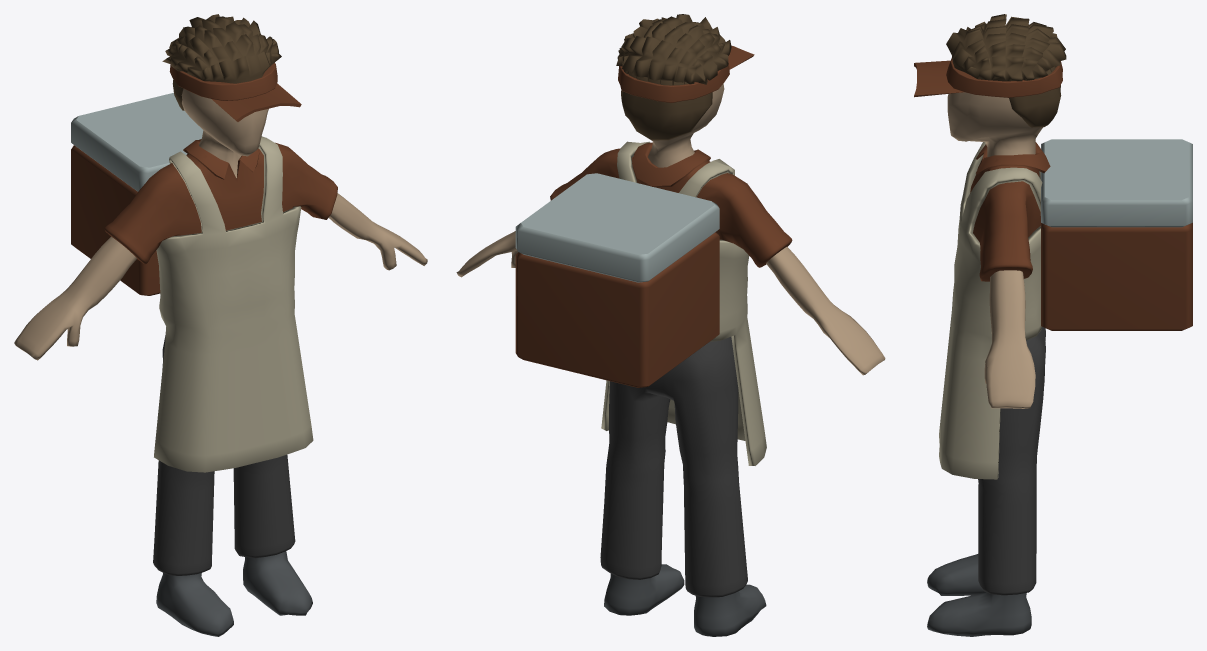
File: PS_PlayerCharacter.fbx
3 renders of one model, left to right at view 1: azimuth 30°, elevation 25°; view 2: azimuth 150°, elevation 25°; view 3: azimuth 270°, elevation 25°, orthographic. The views are drawn at different scales.
Parts seen in each view (by area): view 1: PS_PlayerCharacter; view 2: PS_PlayerCharacter; view 3: PS_PlayerCharacter.
Boxes of the visible parts, x1,y1,x2,y2 form: PS_PlayerCharacter: (14,14,427,636); PS_PlayerCharacter: (456,14,885,636); PS_PlayerCharacter: (914,14,1192,636).
Size of the model in its own units: 1.21 by 1.67 by 0.723.
